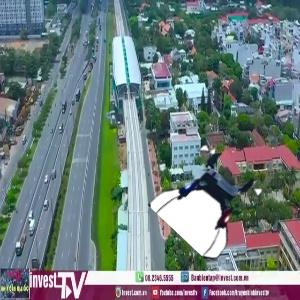drone: (163, 150, 261, 248)
